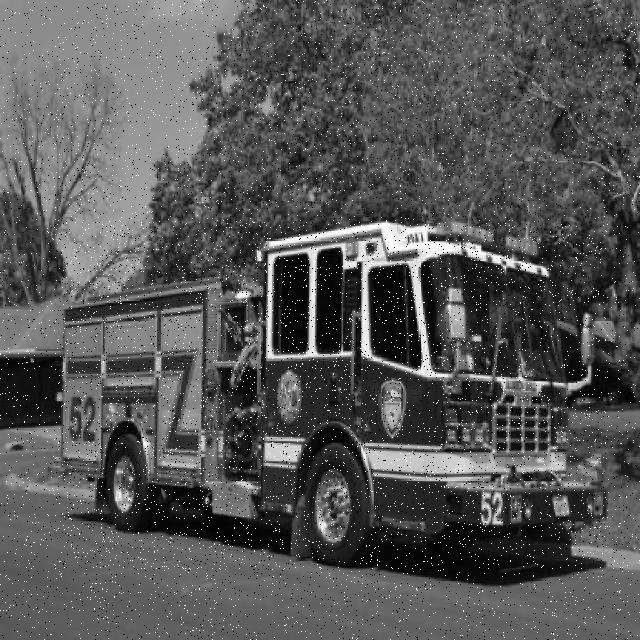Fire Truck: (54, 222, 608, 570)
